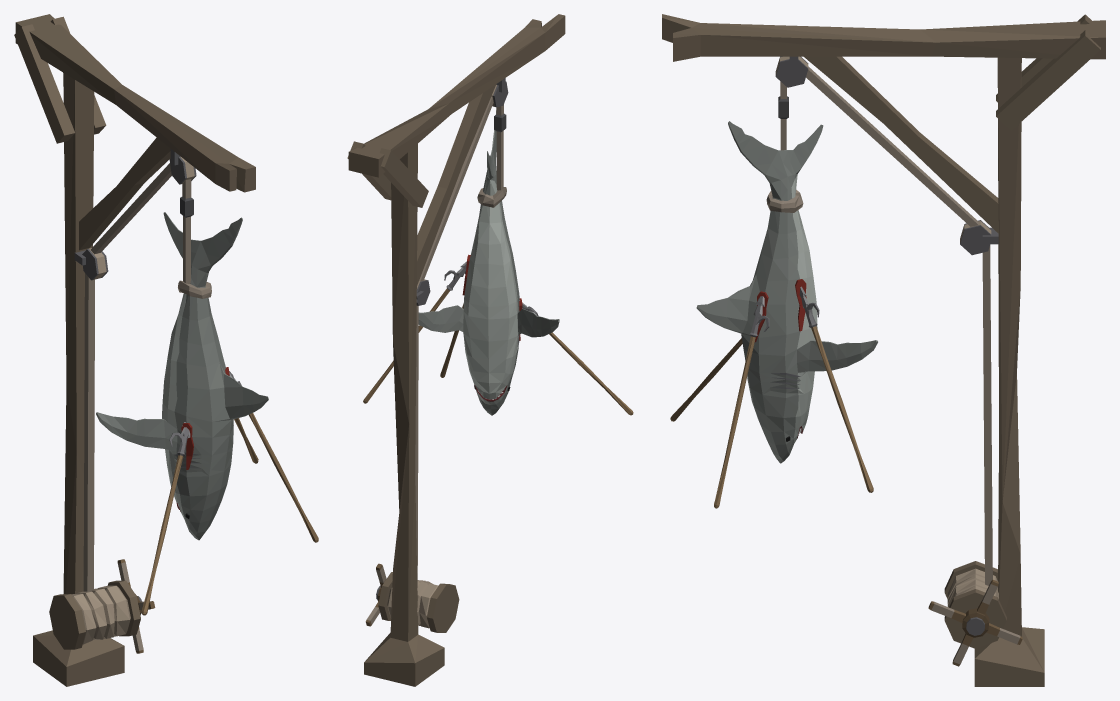
The model's file is SM_Prop_Crane_Shark_01.glb.
The picture shows the model from 3 angles, left to right: view 1: azimuth 30°, elevation 25°; view 2: azimuth 150°, elevation 25°; view 3: azimuth 270°, elevation 25°; orthographic projection. The views are drawn at different scales.
Visible parts, largest first — view 1: SM_Prop_Crane_Shark_01_part00; view 2: SM_Prop_Crane_Shark_01_part00; view 3: SM_Prop_Crane_Shark_01_part00.
Part boxes in pixels (x1,y1,x2,y2): SM_Prop_Crane_Shark_01_part00: (14, 14, 318, 686); SM_Prop_Crane_Shark_01_part00: (347, 14, 633, 686); SM_Prop_Crane_Shark_01_part00: (662, 14, 1105, 686).
Size of the model in its own units: 2.58 by 7.29 by 4.51.
Materials: 1 (1 with a texture image).
